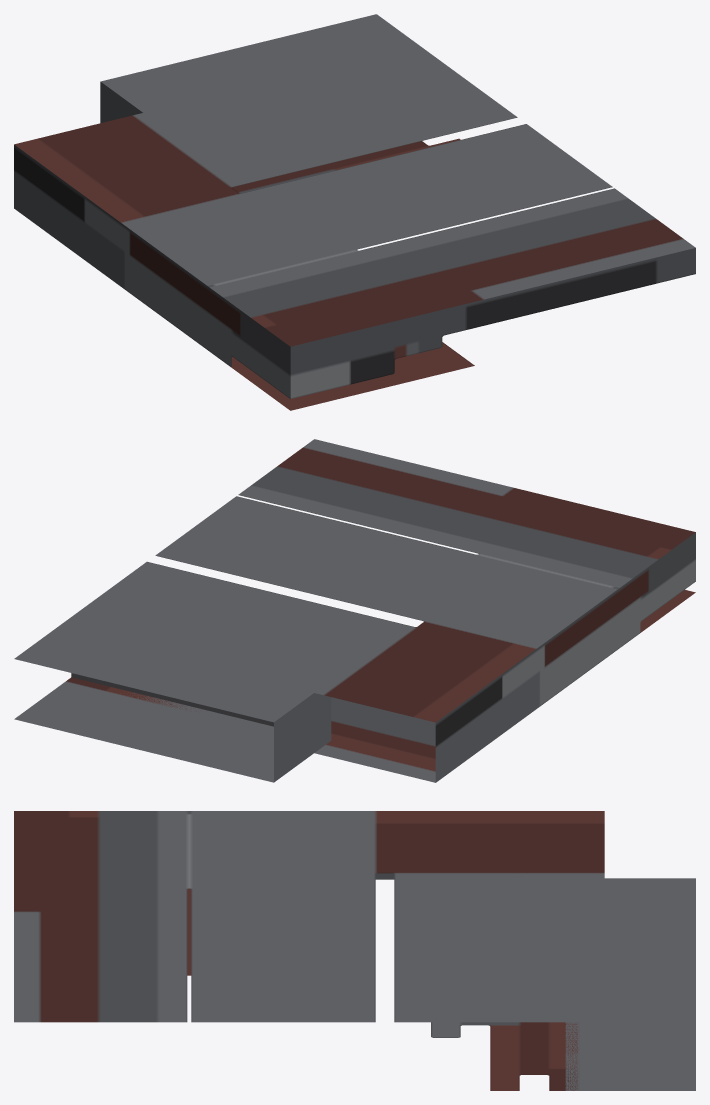
Rendered from section-0.obj.
The picture shows the model from 3 angles, top to bottom: view 1: azimuth 30°, elevation 25°; view 2: azimuth 150°, elevation 25°; view 3: azimuth 270°, elevation 25°; orthographic projection. The views are drawn at different scales.
Size of the model in its own units: 1.06 by 0.1598 by 1.44.
